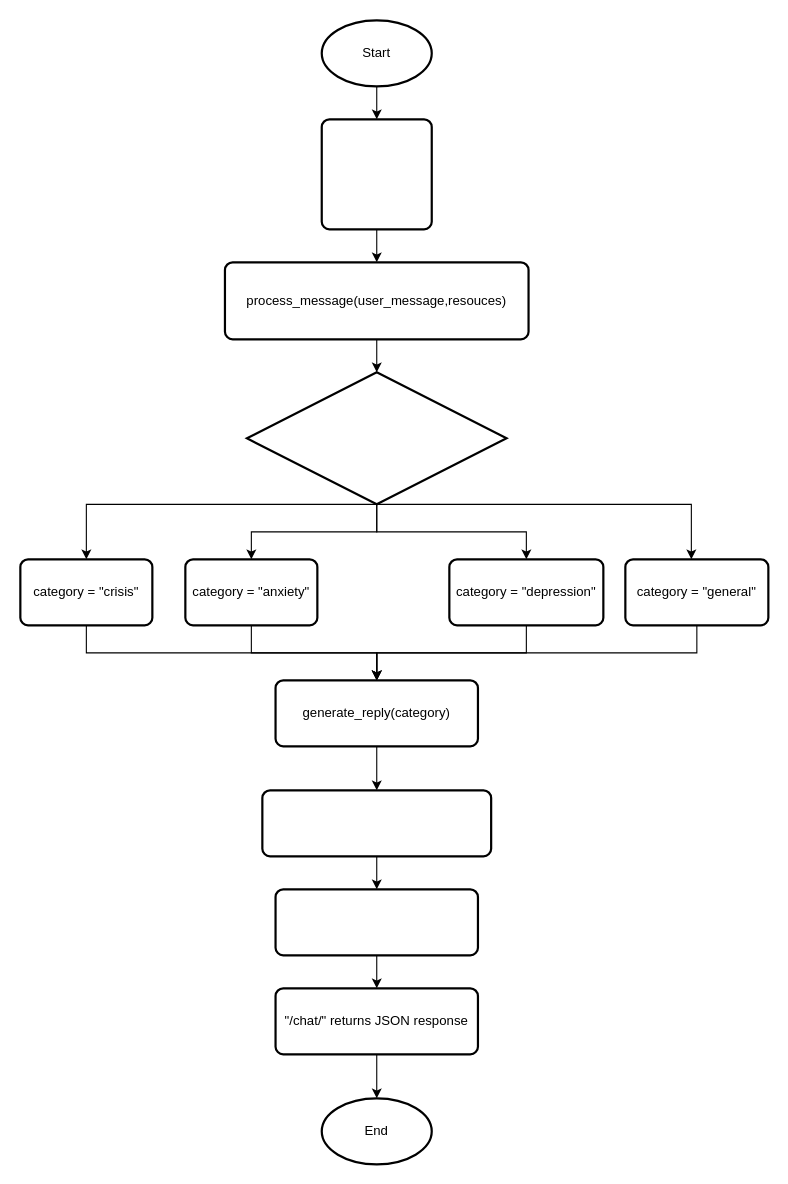
Image size: 788x1184. Some labels were removed from this diagram. Here are the shapes that lost their labels. From the top down, the centre of each, then its label:
(x=376, y=174): POST "/chat/" receives JSON message
(x=376, y=438): classify_message(user_message)
(x=376, y=823): get_resources(category, resources)
(x=376, y=922): return reply_text and matched resources
